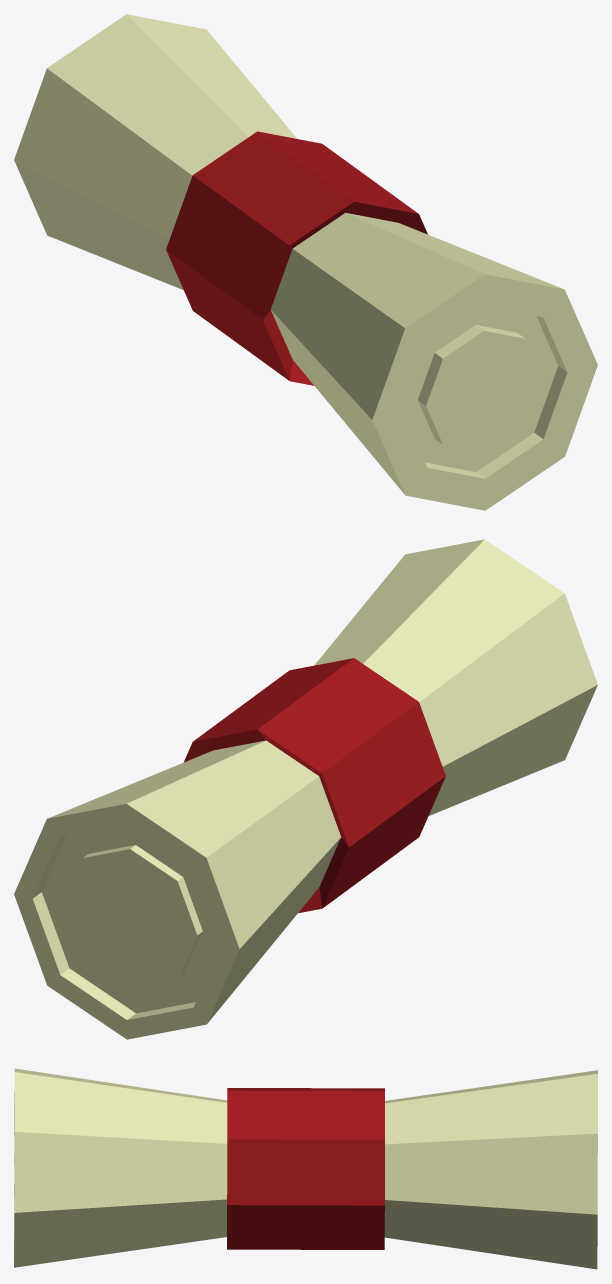
The model's file is testament.fbx.
3 renders of one model, top to bottom at view 1: azimuth 30°, elevation 25°; view 2: azimuth 150°, elevation 25°; view 3: azimuth 270°, elevation 25°, orthographic. The views are drawn at different scales.
Parts seen in each view (by area): view 1: Cylinder; view 2: Cylinder; view 3: Cylinder.
Part boxes in pixels (left/top/right/bottom): Cylinder: left=14, top=14, right=597, bottom=510; Cylinder: left=14, top=539, right=597, bottom=1039; Cylinder: left=14, top=1068, right=597, bottom=1269.
Size of the model in its own units: 35.23 by 35.55 by 97.
